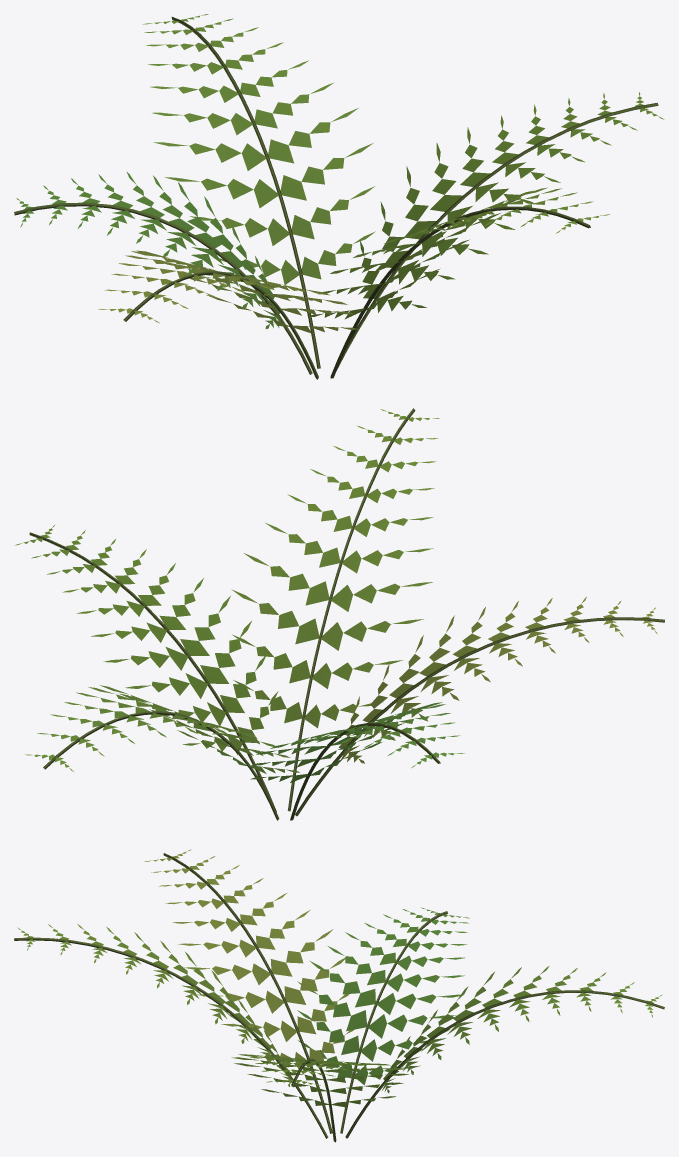
The model's file is fern-bracken-a.lod0.glb.
The picture shows the model from 3 angles, top to bottom: view 1: azimuth 30°, elevation 25°; view 2: azimuth 150°, elevation 25°; view 3: azimuth 270°, elevation 25°; orthographic projection. The views are drawn at different scales.
Visible parts, largest first — view 1: fern-bracken-a.lod0; view 2: fern-bracken-a.lod0; view 3: fern-bracken-a.lod0.
Part boxes in pixels (bbox=[...]): fern-bracken-a.lod0: bbox=[14, 14, 664, 379]; fern-bracken-a.lod0: bbox=[14, 408, 664, 820]; fern-bracken-a.lod0: bbox=[14, 849, 664, 1142].
Size of the model in its own units: 1.72 by 0.7461 by 1.96.
